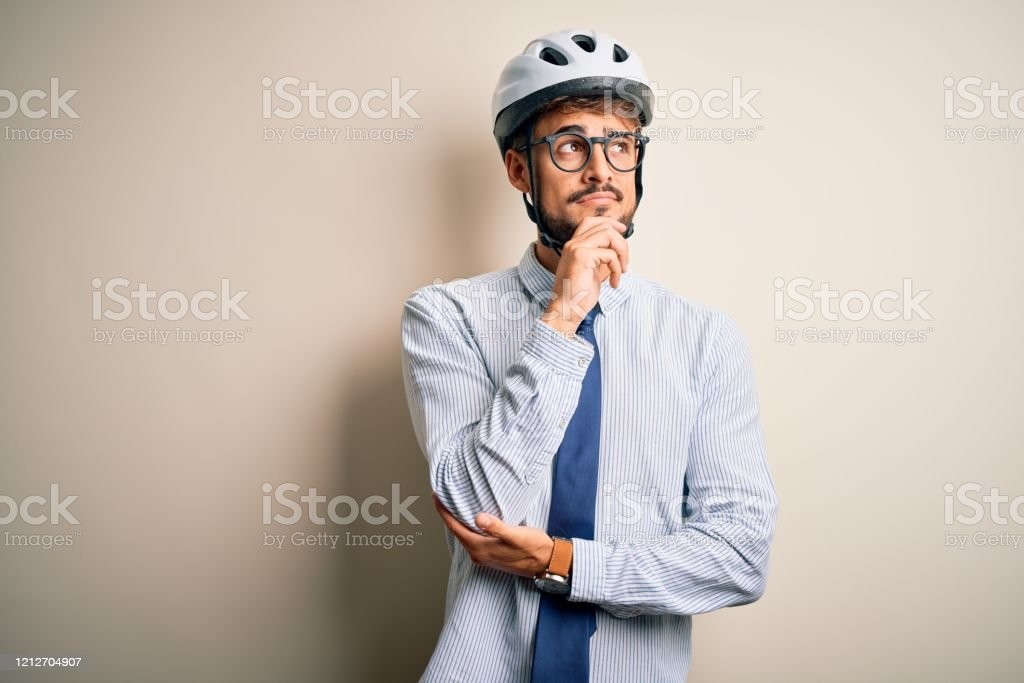helmet: (492, 30, 654, 244)
